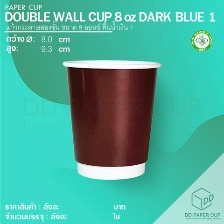paper_cup: (59, 54, 164, 184)
